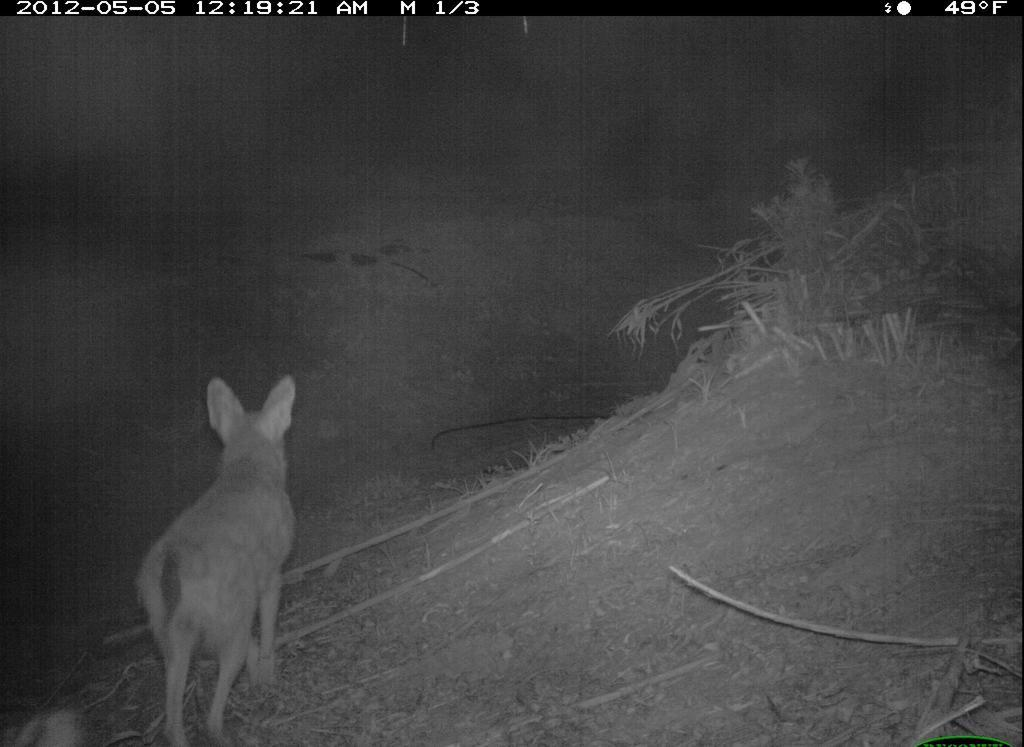coyote: (127, 361, 312, 747)
